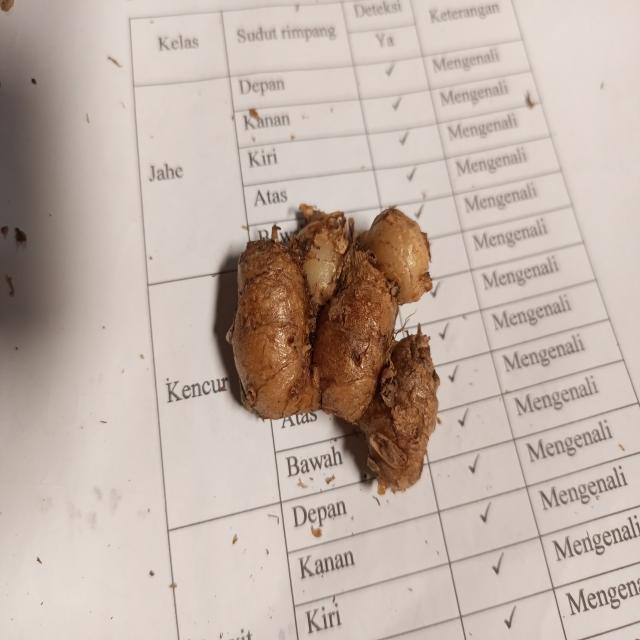ginger: (241, 190, 442, 477)
